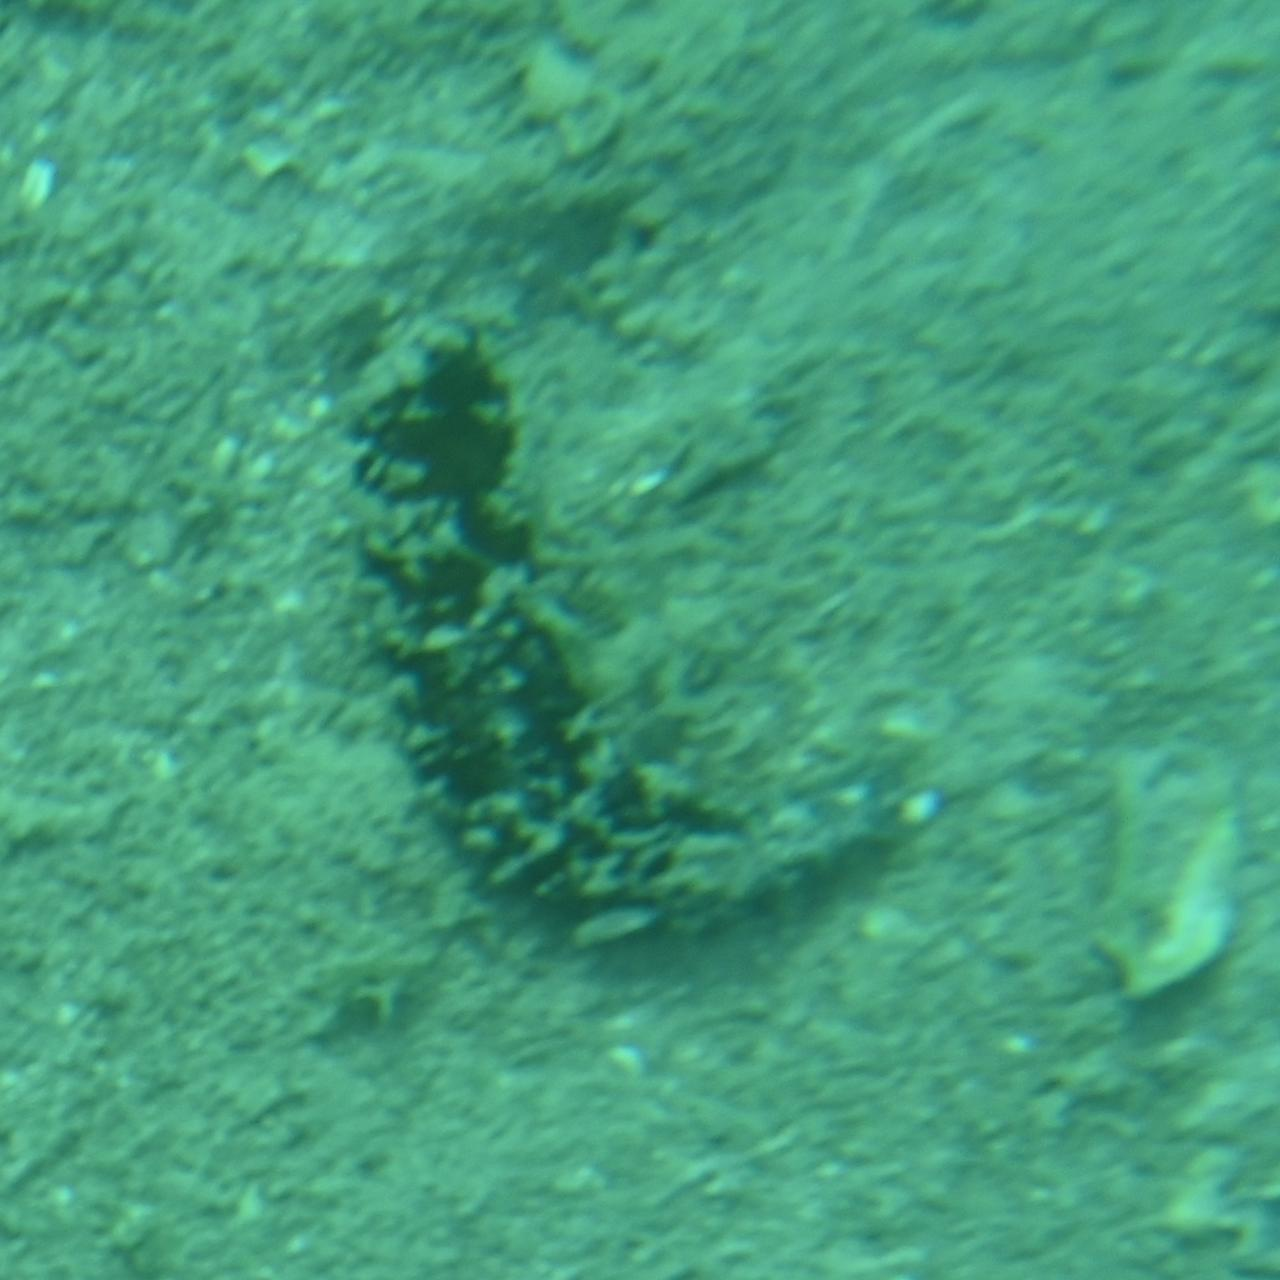Holothuria tubulosa: (333, 302, 947, 978)
